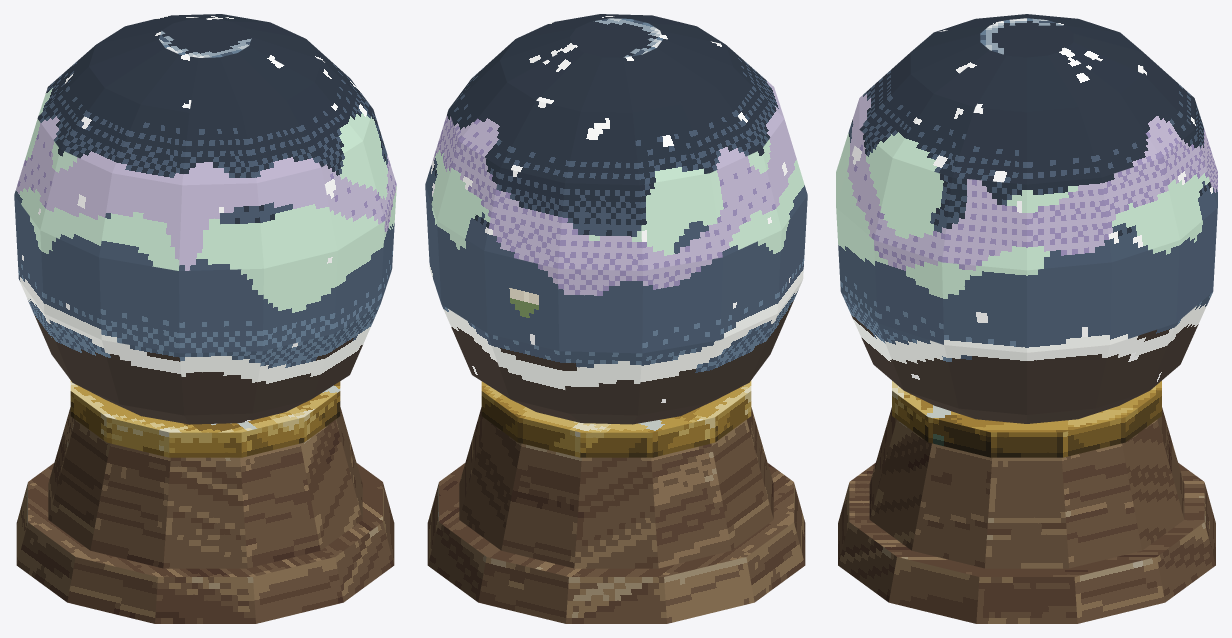
File: sv_auroraglobe.glb
3 renders of one model, left to right at view 1: azimuth 30°, elevation 25°; view 2: azimuth 150°, elevation 25°; view 3: azimuth 270°, elevation 25°, orthographic.
Parts seen in each view (by area): view 1: glow_globe, waist, foot, band; view 2: glow_globe, waist, foot, band; view 3: glow_globe, waist, foot, band.
Part boxes in pixels (x1,y1,x2,y2): glow_globe: [14, 14, 396, 424]; waist: [48, 407, 362, 568]; foot: [16, 463, 394, 623]; band: [70, 380, 340, 457]; glow_globe: [425, 14, 807, 424]; waist: [459, 407, 773, 568]; foot: [427, 463, 805, 623]; band: [481, 380, 751, 457]; glow_globe: [836, 14, 1217, 423]; waist: [869, 407, 1184, 568]; foot: [838, 463, 1215, 623]; band: [892, 381, 1161, 457].
Size of the model in its own units: 0.5125 by 0.75 by 0.5125.
Materials: 2 (2 with a texture image).
